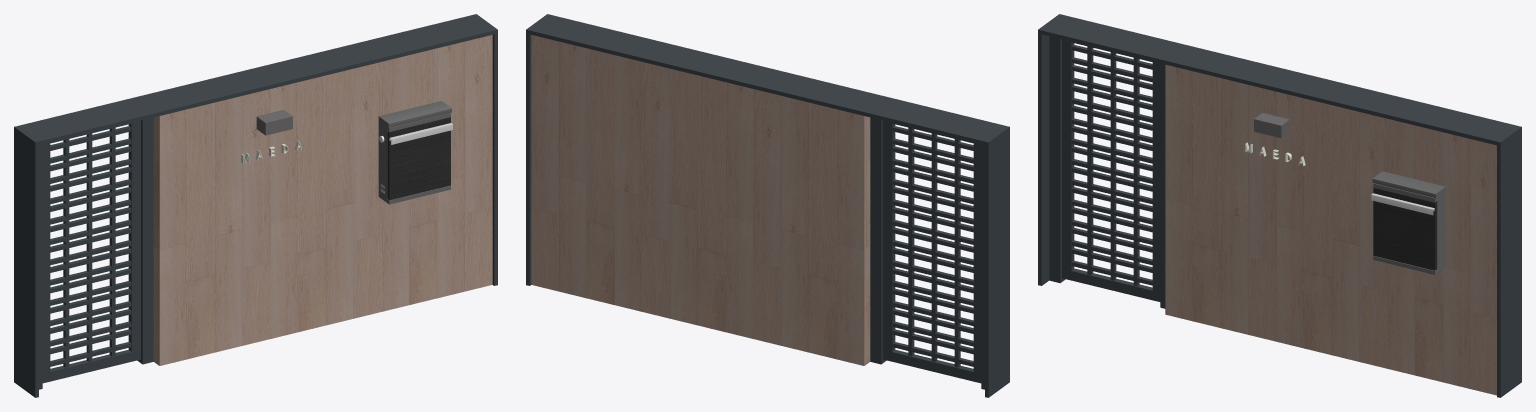
Rendered from ab12-m_mat-d-grey_pinenatural.fbx.
3 renders of one model, left to right at view 1: azimuth 30°, elevation 25°; view 2: azimuth 150°, elevation 25°; view 3: azimuth 330°, elevation 25°, orthographic.
Visible parts, largest first — view 1: ab12-m_mat-d-grey_pinenatural; view 2: ab12-m_mat-d-grey_pinenatural; view 3: ab12-m_mat-d-grey_pinenatural.
Part boxes in pixels (x1,y1,x2,y2): ab12-m_mat-d-grey_pinenatural: (14, 14, 497, 397); ab12-m_mat-d-grey_pinenatural: (526, 14, 1009, 397); ab12-m_mat-d-grey_pinenatural: (1038, 14, 1521, 397).
Size of the model in its own units: 250 by 132 by 30.61.
Materials: 12 (3 with a texture image).
